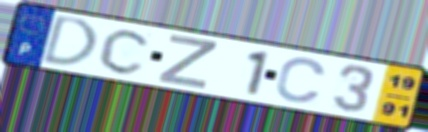1: (243, 50, 275, 97)
3: (330, 63, 378, 115)
C: (96, 27, 154, 76), (273, 56, 329, 105)
D: (39, 13, 100, 68)
Z: (155, 33, 220, 91)
